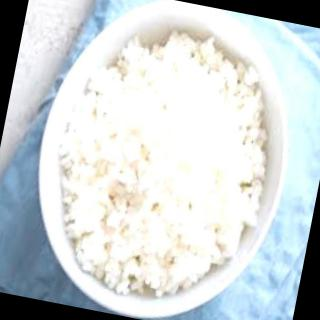Nasi: (33, 9, 292, 319)
